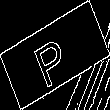P_NW: (33, 24, 77, 86)
